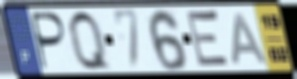6: (146, 6, 190, 73)
7: (111, 7, 141, 73)
A: (230, 11, 269, 67)
E: (184, 8, 233, 71)
P: (31, 10, 69, 73)
Q: (66, 8, 114, 74)
